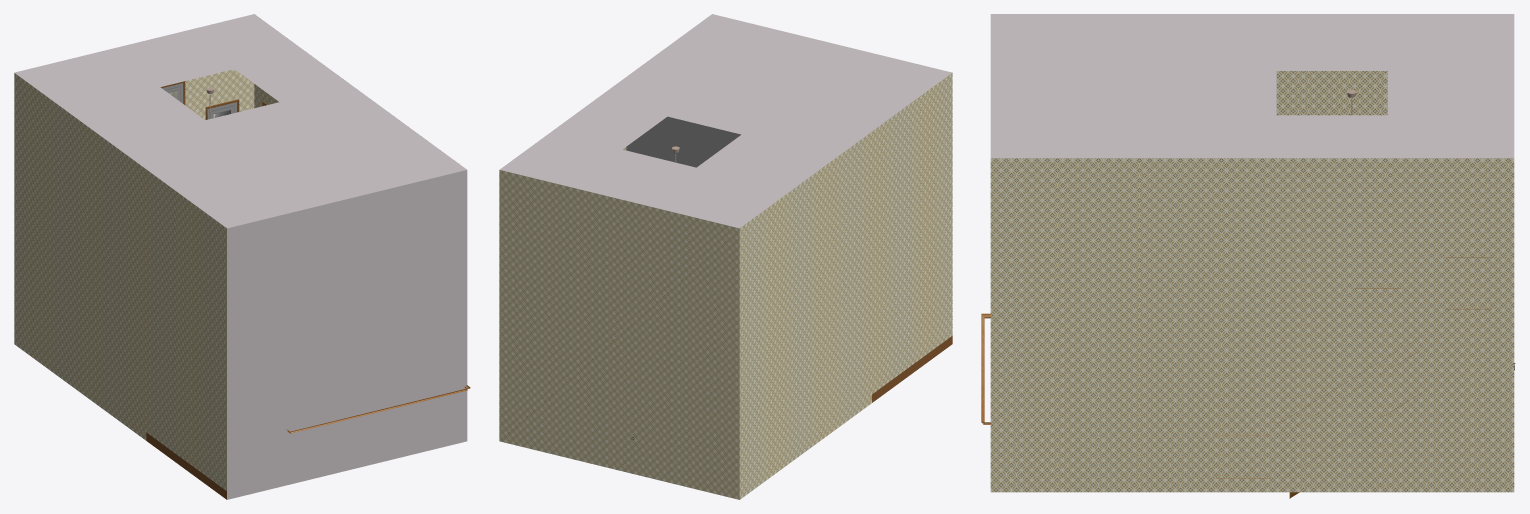
The model's file is wooden-staircase.glb.
3 renders of one model, left to right at view 1: azimuth 30°, elevation 25°; view 2: azimuth 150°, elevation 25°; view 3: azimuth 270°, elevation 25°, orthographic. The views are drawn at different scales.
Visible parts, largest first — view 1: WhitePaint_0001, Wallpaper_0001, WoodStairs_0001; view 2: Wallpaper_0001, WhitePaint_0001, WoodStairs_0001; view 3: Wallpaper_0001, WhitePaint_0001, WoodStairs_0001.
Boxes of the visible parts, bbox=[...] form: WhitePaint_0001: bbox=[14, 14, 467, 499]; Wallpaper_0001: bbox=[14, 69, 278, 490]; WoodStairs_0001: bbox=[146, 81, 470, 499]; Wallpaper_0001: bbox=[499, 73, 952, 499]; WhitePaint_0001: bbox=[500, 14, 951, 441]; WoodStairs_0001: bbox=[872, 336, 952, 402]; Wallpaper_0001: bbox=[990, 71, 1514, 492]; WhitePaint_0001: bbox=[990, 14, 1515, 370]; WoodStairs_0001: bbox=[981, 257, 1491, 498].
Bounding box in the file's own units: 6.61 × 7.32 × 10.34.
12 materials, 12 textured.
